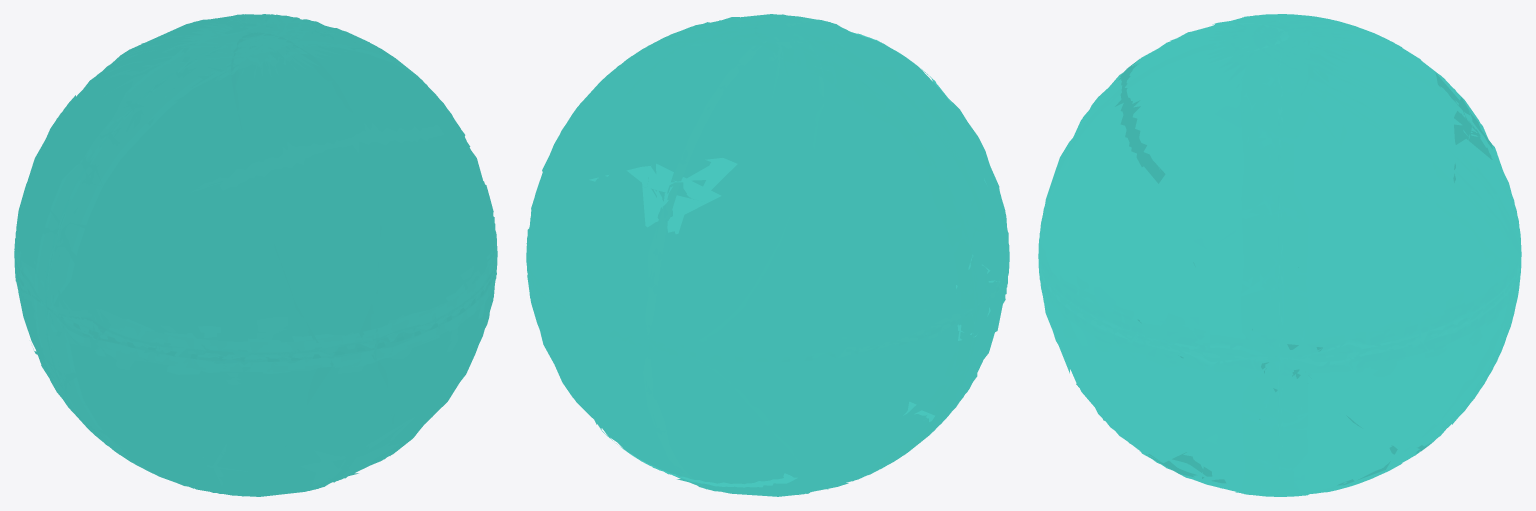
Rendered from open-drain.glb.
3 renders of one model, left to right at view 1: azimuth 30°, elevation 25°; view 2: azimuth 150°, elevation 25°; view 3: azimuth 270°, elevation 25°, orthographic.
Visible parts, largest first — view 1: open_drain; view 2: open_drain; view 3: open_drain.
Boxes of the visible parts, x1,y1,x2,y2 form: open_drain: (14,14,497,496); open_drain: (526,14,1009,496); open_drain: (1038,14,1521,496).
Bounding box in the file's own units: 2 × 2 × 2.
